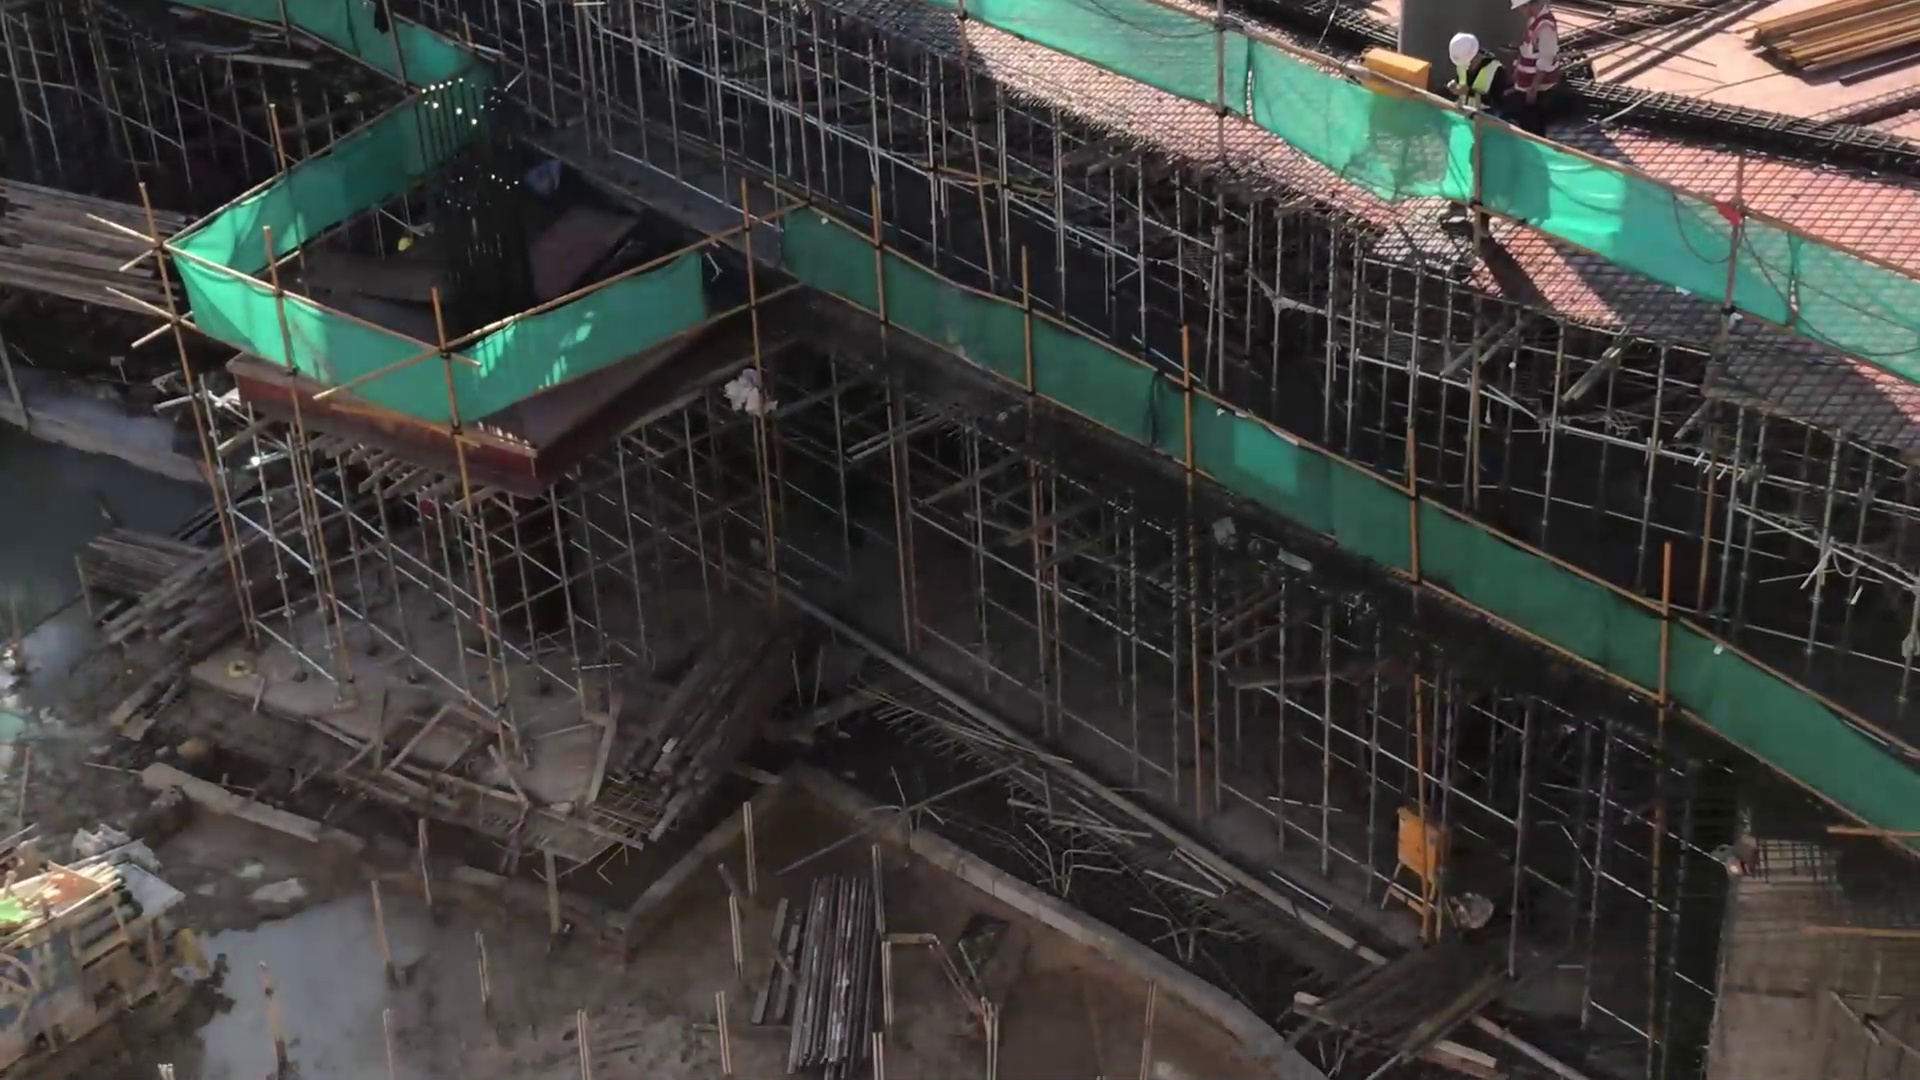helmet: (1444, 29, 1486, 66)
vest: (1509, 11, 1567, 94), (1451, 53, 1506, 123)
